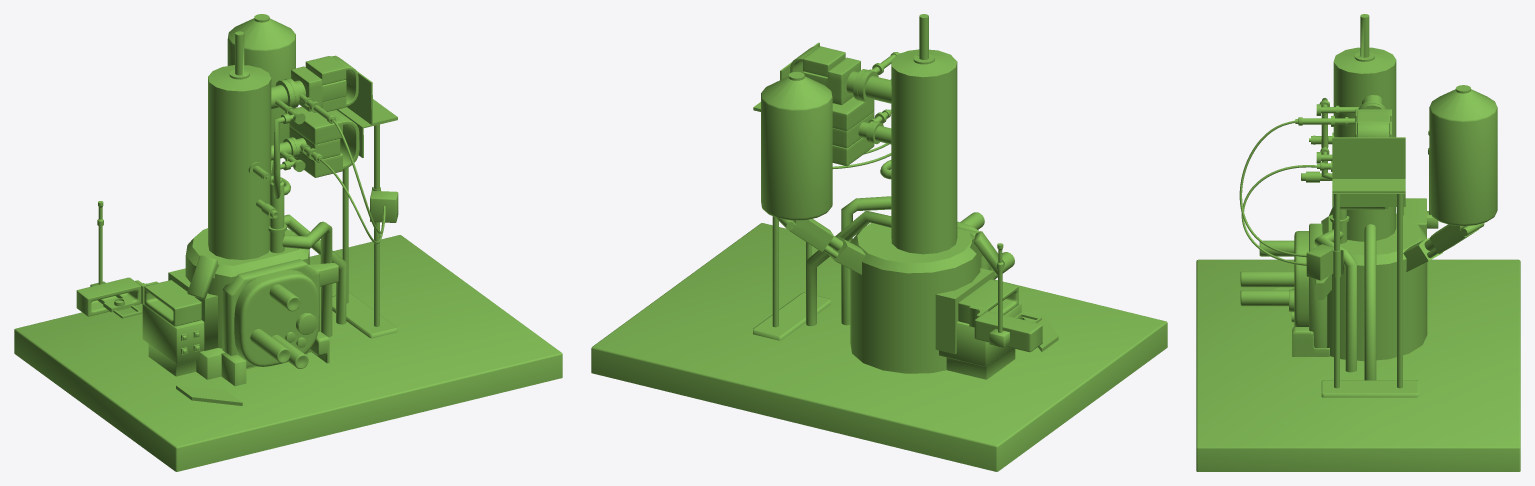
The model's file is SEM.fbx.
3 views of the same model, side by side, from view 1: azimuth 30°, elevation 25°; view 2: azimuth 150°, elevation 25°; view 3: azimuth 270°, elevation 25° (orthographic). The views are drawn at different scales.
Visible parts, largest first — view 1: SEM-Body, SEM-Door; view 2: SEM-Body, SEM-Door; view 3: SEM-Body, SEM-Door.
Boxes of the visible parts, x1,y1,x2,y2 form: SEM-Body: [14, 14, 562, 471]; SEM-Door: [222, 259, 338, 368]; SEM-Body: [591, 14, 1167, 471]; SEM-Door: [869, 212, 1014, 279]; SEM-Body: [1196, 14, 1520, 471]; SEM-Door: [1240, 223, 1331, 356].
Size of the model in its own units: 145 by 106 by 122.
